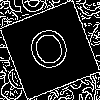O: (24, 24, 77, 82)
